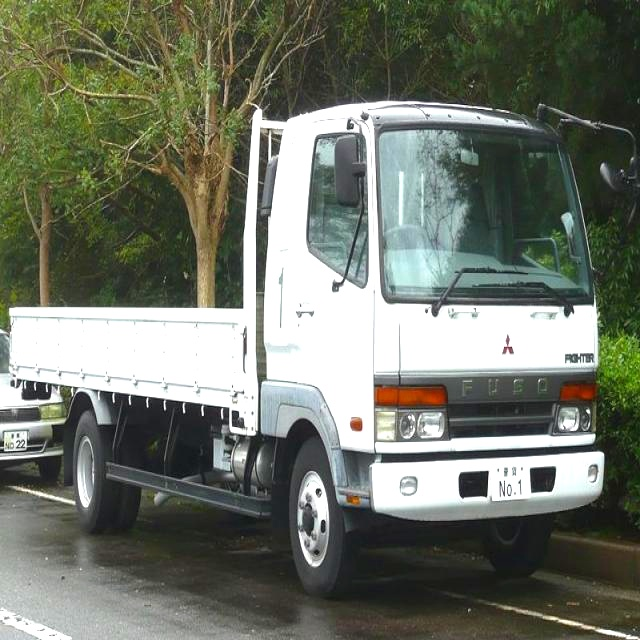truck: (8, 67, 616, 613)
